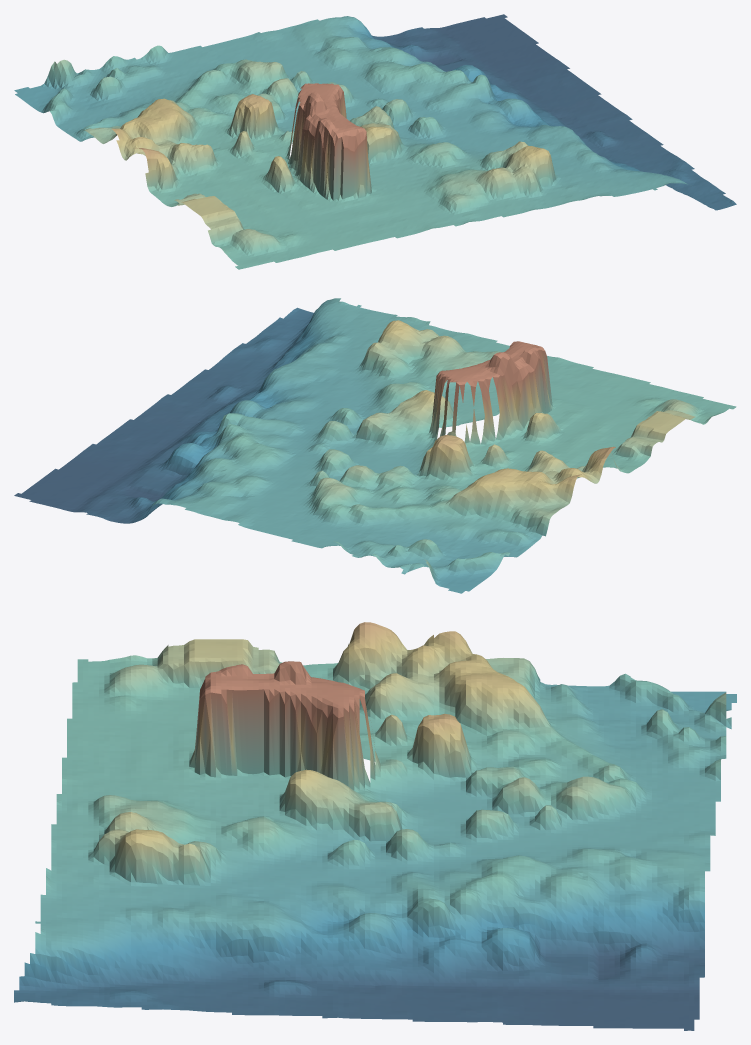
File: oma084_mesh_pseudogt.glb
3 renders of one model, top to bottom at view 1: azimuth 30°, elevation 25°; view 2: azimuth 150°, elevation 25°; view 3: azimuth 270°, elevation 25°, orthographic. The views are drawn at different scales.
Parts seen in each view (by area): view 1: world; view 2: world; view 3: world.
Part boxes in pixels (left/top/right/bottom): world: left=14, top=14, right=736, bottom=269; world: left=14, top=298, right=736, bottom=593; world: left=14, top=622, right=736, bottom=1030.
Size of the model in its own units: 213 by 47.38 by 204.
